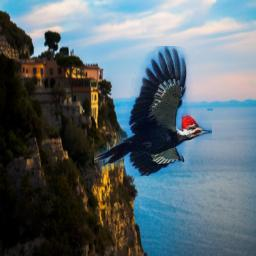Woodpecker: (94, 46, 212, 176)
